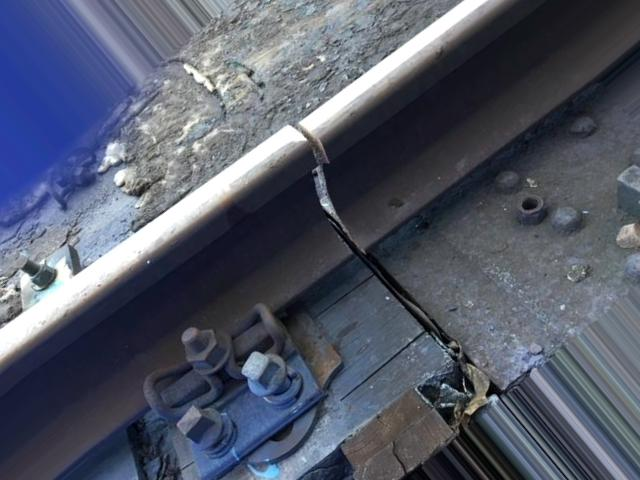tracks_fault: (372, 171, 442, 252)
